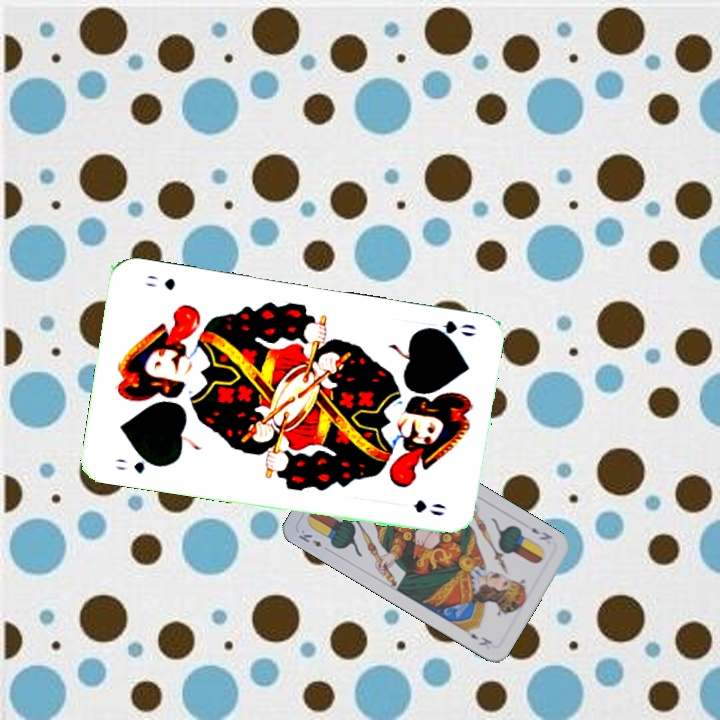EK: (294, 525, 325, 550), (527, 523, 555, 543)
GO: (419, 316, 478, 340), (112, 453, 165, 477)
